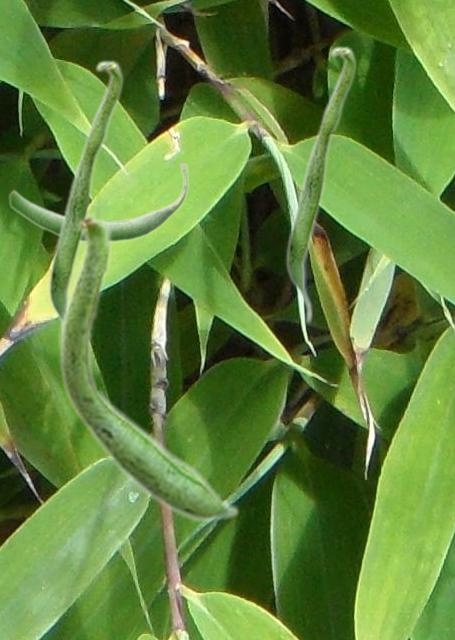french_bean: (58, 211, 239, 522), (47, 59, 123, 320), (285, 45, 356, 324), (8, 163, 188, 243)
